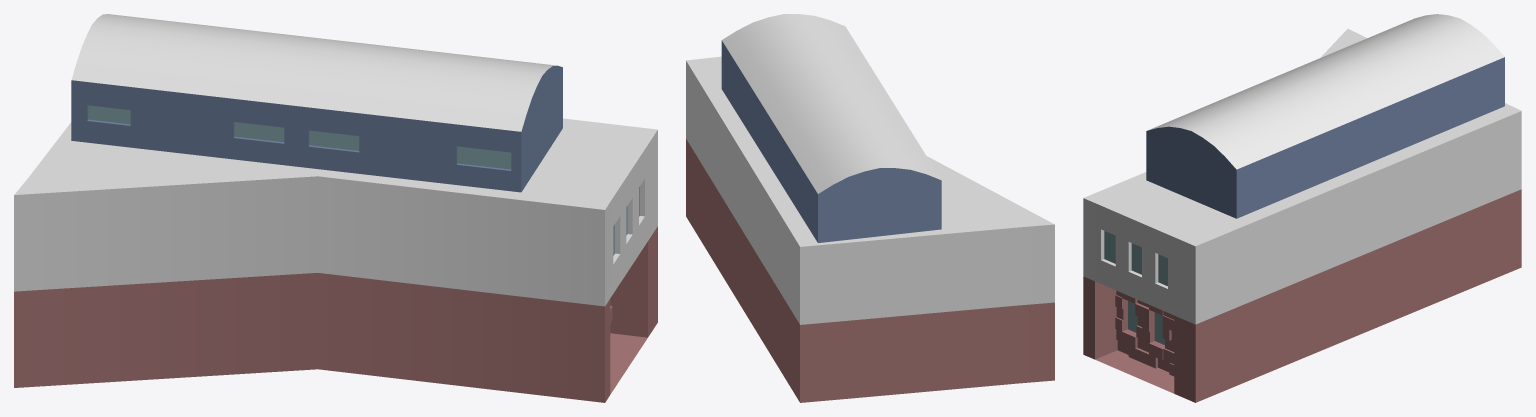
Rendered from s_House 1.fbx.
3 renders of one model, left to right at view 1: azimuth 30°, elevation 25°; view 2: azimuth 150°, elevation 25°; view 3: azimuth 270°, elevation 25°, orthographic. The views are drawn at different scales.
Visible parts, largest first — view 1: polySurface29; view 2: polySurface29; view 3: polySurface29.
Part boxes in pixels (left/top/right/bottom): polySurface29: left=14, top=14, right=657, bottom=402; polySurface29: left=686, top=14, right=1054, bottom=402; polySurface29: left=1083, top=14, right=1521, bottom=402.
Bounding box in the file's own units: 82.33 × 39.68 × 70.06.
